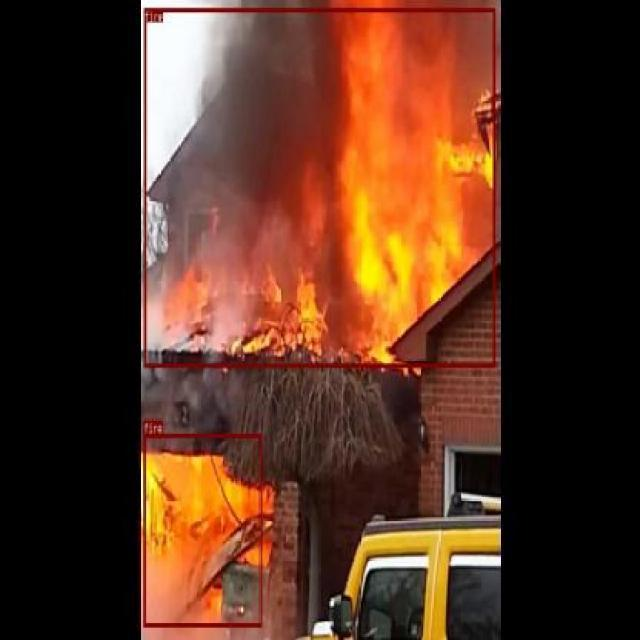Fire: (143, 8, 494, 366), (143, 433, 262, 627)
